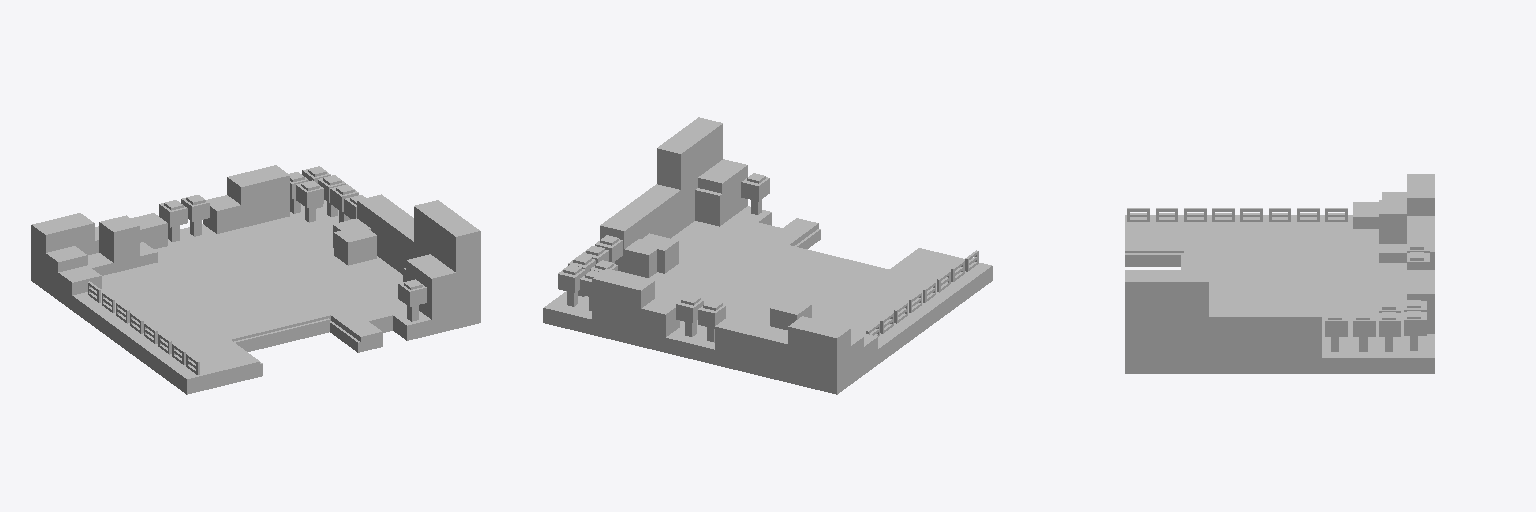
The model's file is MAP.obj.
The picture shows the model from 3 angles: view 1: azimuth 30°, elevation 25°; view 2: azimuth 150°, elevation 25°; view 3: azimuth 270°, elevation 25°; orthographic projection.
Visible parts, largest first — view 1: MAP; view 2: MAP; view 3: MAP.
Boxes of the visible parts, box(x1,y1,x2,y2) form: MAP: box(31, 165, 480, 394); MAP: box(543, 117, 992, 394); MAP: box(1125, 174, 1434, 373).
Bounding box in the file's own units: 120 × 36 × 110.